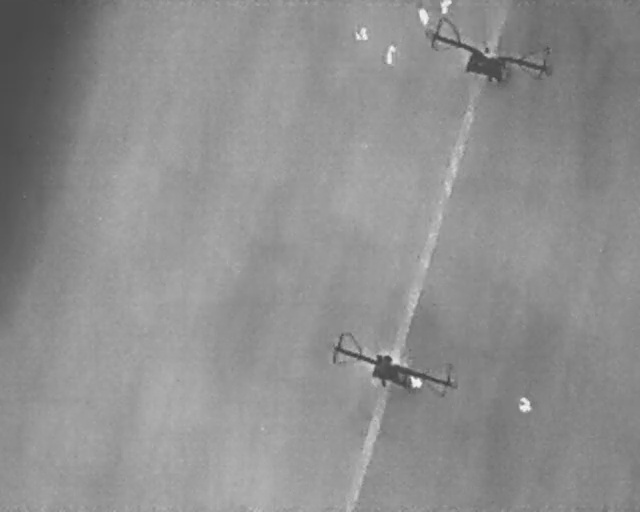Person: (416, 6, 431, 27), (384, 42, 396, 67), (408, 373, 424, 391), (353, 26, 368, 42), (518, 397, 532, 414), (440, 0, 453, 15)
